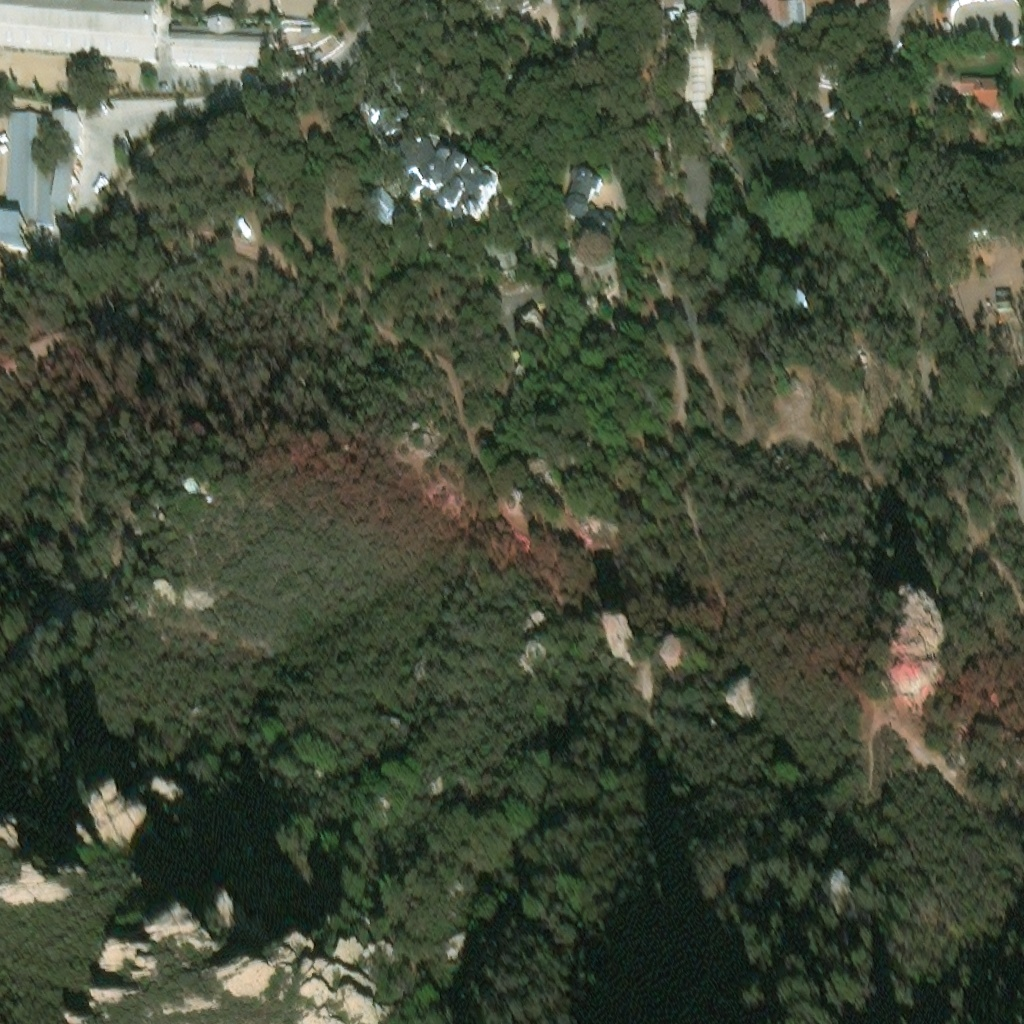0 no-damage: (382, 123, 503, 235), (0, 110, 81, 244), (0, 0, 165, 58), (665, 11, 718, 140), (171, 17, 270, 75), (357, 87, 415, 150), (565, 166, 618, 233), (961, 76, 1004, 120), (13, 610, 59, 650), (364, 183, 404, 226), (520, 307, 542, 329), (233, 214, 251, 235), (0, 253, 9, 265)
